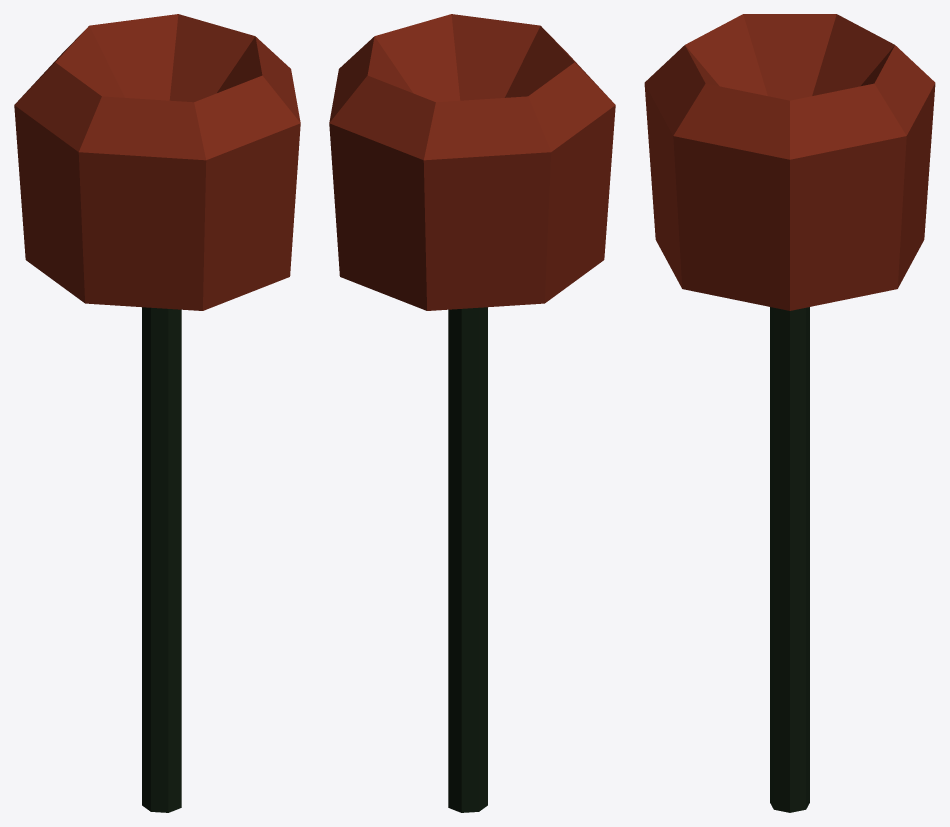
The model's file is Flower_Tulip_Single_01.fbx.
3 renders of one model, left to right at view 1: azimuth 30°, elevation 25°; view 2: azimuth 150°, elevation 25°; view 3: azimuth 270°, elevation 25°, orthographic.
Parts seen in each view (by area): view 1: Flower_Tulip_Single_01_Mesh; view 2: Flower_Tulip_Single_01_Mesh; view 3: Flower_Tulip_Single_01_Mesh.
Part boxes in pixels (x1,y1,x2,y2): Flower_Tulip_Single_01_Mesh: (14,14,300,812); Flower_Tulip_Single_01_Mesh: (329,14,615,812); Flower_Tulip_Single_01_Mesh: (644,14,935,812).
Size of the model in its own units: 0.1236 by 0.36 by 0.1267.
1 material, 1 textured.
